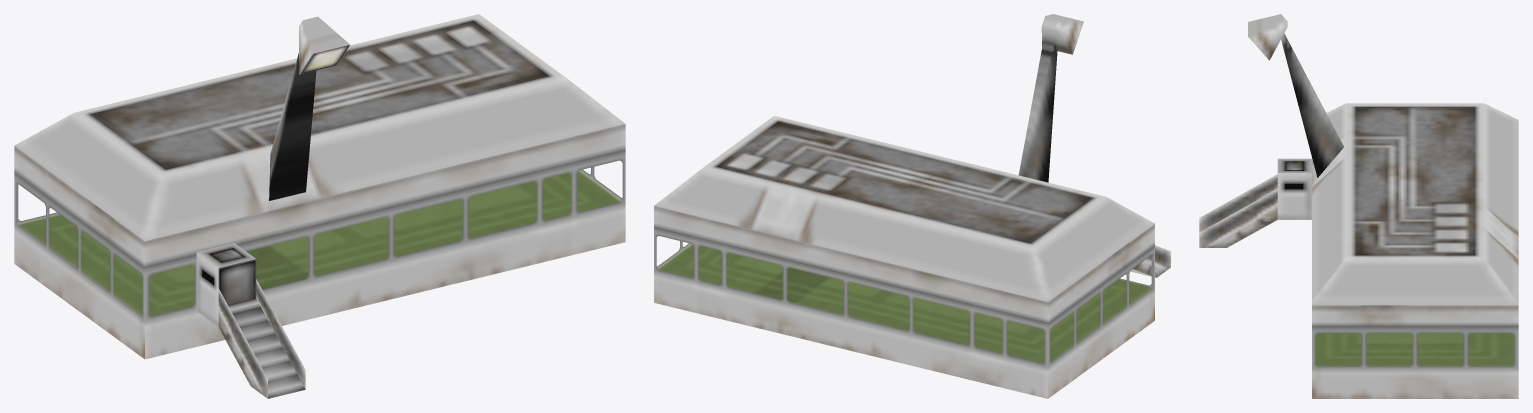
Rendered from terminal1.glb.
3 views of the same model, side by side, from view 1: azimuth 30°, elevation 25°; view 2: azimuth 150°, elevation 25°; view 3: azimuth 270°, elevation 25° (orthographic). The views are drawn at different scales.
Parts seen in each view (by area): view 1: Terminal, Stairs, Externals; view 2: Terminal, Externals, Stairs; view 3: Terminal, Stairs, Externals.
Boxes of the visible parts, box(x1,y1,x2,y2) form: Terminal: box(14, 14, 625, 359); Stairs: box(196, 243, 305, 398); Externals: box(269, 16, 349, 200); Terminal: box(654, 116, 1154, 398); Externals: box(1018, 14, 1083, 182); Stairs: box(1130, 245, 1170, 277); Terminal: box(1312, 103, 1518, 398); Stairs: box(1199, 158, 1311, 247); Externals: box(1248, 14, 1343, 177).
Size of the model in its own units: 25.5 by 16.21 by 18.54.
1 material, 1 textured.
